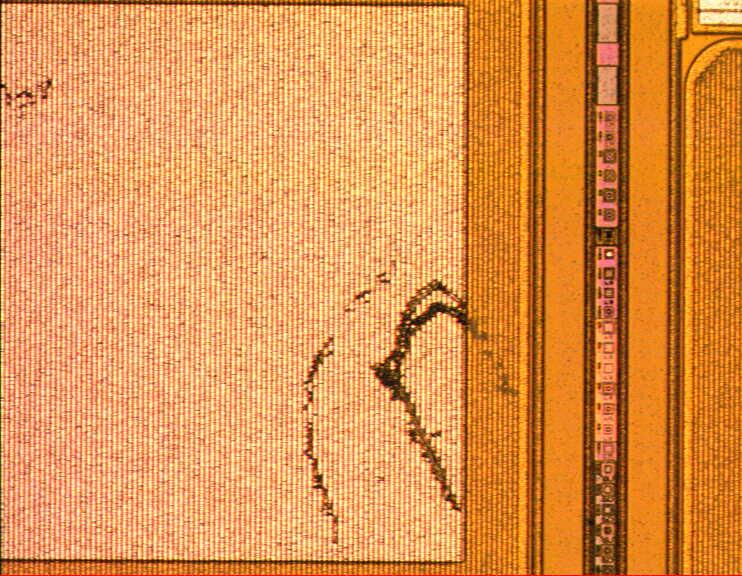SCRATCH: (1, 73, 523, 556)
